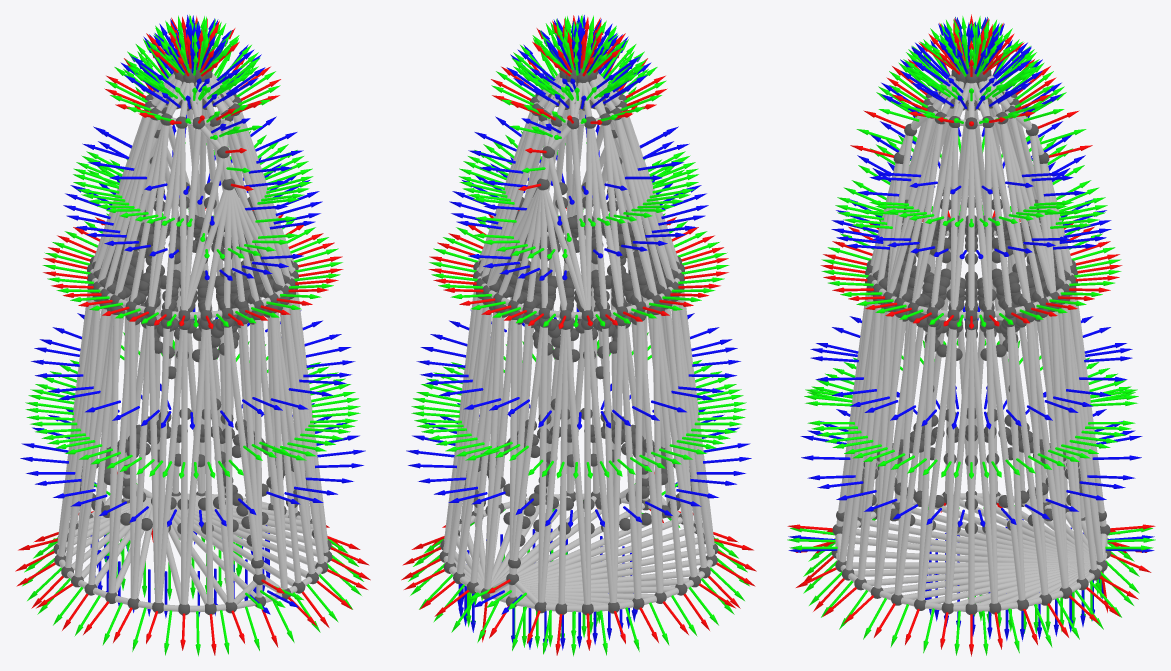
The model's file is onshape_bishop.gltf.
The picture shows the model from 3 angles, left to right: view 1: azimuth 30°, elevation 25°; view 2: azimuth 150°, elevation 25°; view 3: azimuth 270°, elevation 25°; orthographic projection.
Bounding box in the file's own units: 0.5479 × 0.9761 × 0.5669.
